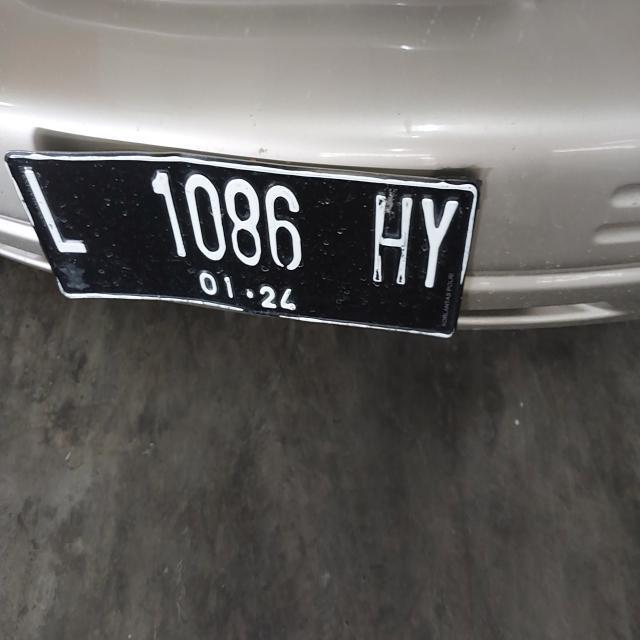0: (184, 157, 233, 270)
1: (136, 150, 197, 283)
6: (258, 155, 316, 292)
8: (218, 158, 271, 290)
H: (360, 170, 420, 316)
L: (18, 136, 105, 286)
Y: (408, 150, 462, 312)
